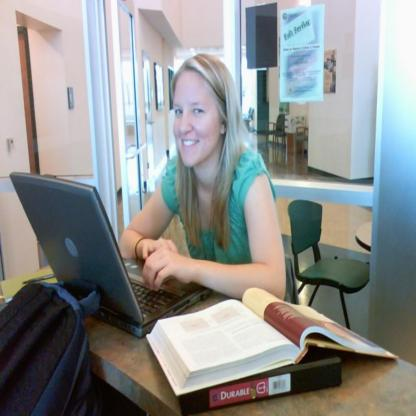board: (11, 173, 213, 338)
